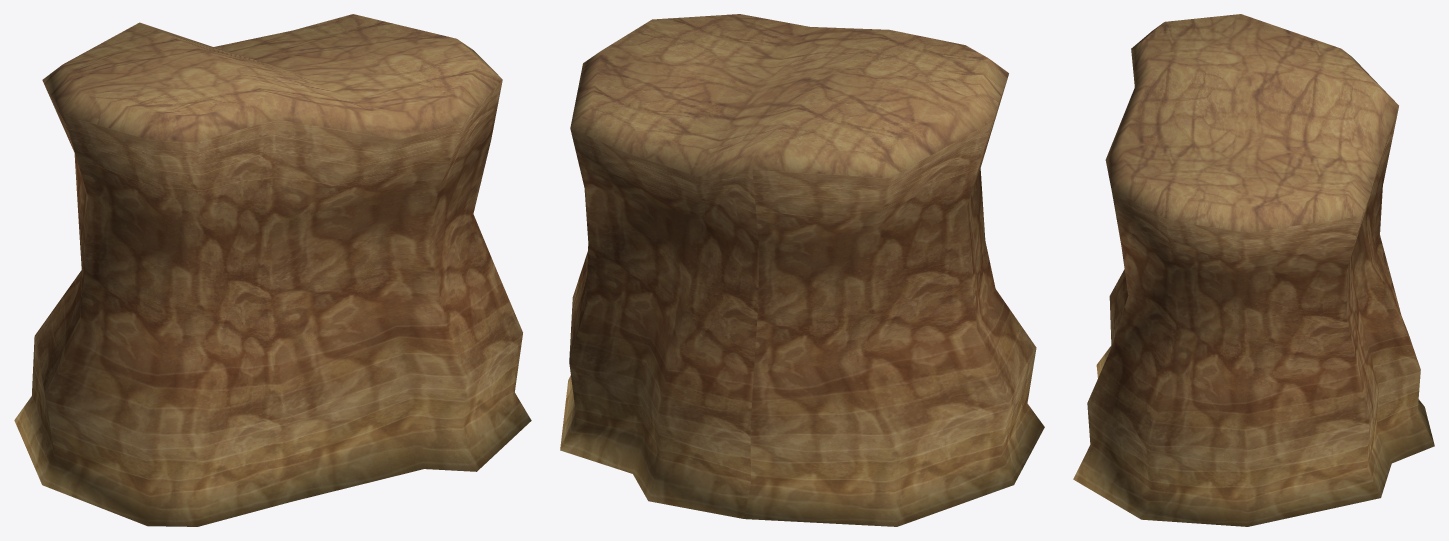
Rendered from desert round cliff.FBX.
The picture shows the model from 3 angles, left to right: view 1: azimuth 30°, elevation 25°; view 2: azimuth 150°, elevation 25°; view 3: azimuth 270°, elevation 25°; orthographic projection. The views are drawn at different scales.
Parts seen in each view (by area): view 1: desert round cliff; view 2: desert round cliff; view 3: desert round cliff.
Boxes of the visible parts, x1=… form: desert round cliff: x1=14, y1=14, x2=531, y2=526; desert round cliff: x1=560, y1=14, x2=1044, y2=526; desert round cliff: x1=1073, y1=14, x2=1434, y2=526.
Bounding box in the file's own units: 19.17 × 15.71 × 15.12.
